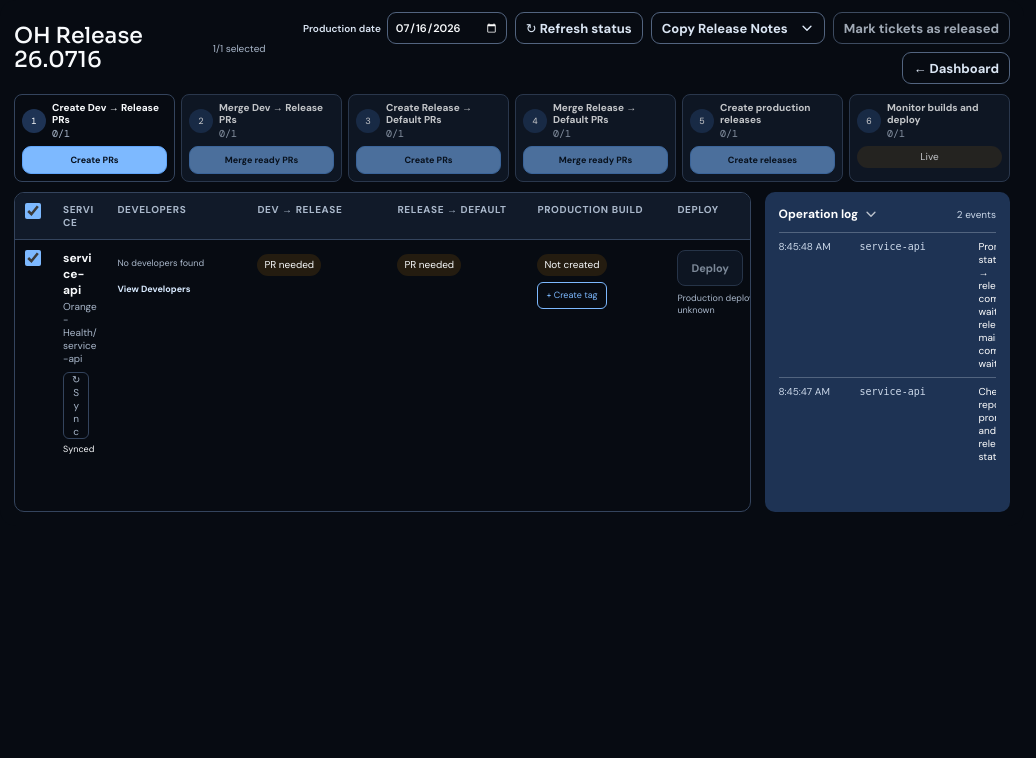
it: ReleaseDayOperations › shows review required after PR creation when approval is still pending
Click the 1st button "Create PRs" at (94, 160), box left=22, top=146, right=167, bottom=174
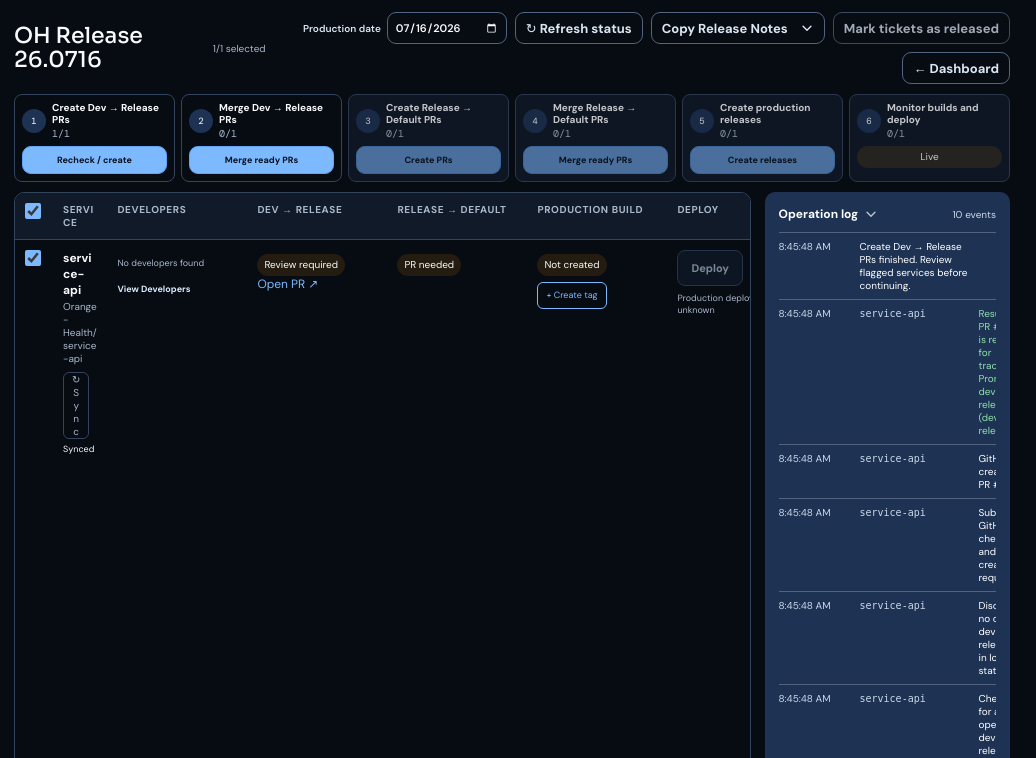
Now the text "Review required" is shown, box left=257, top=254, right=345, bottom=276
